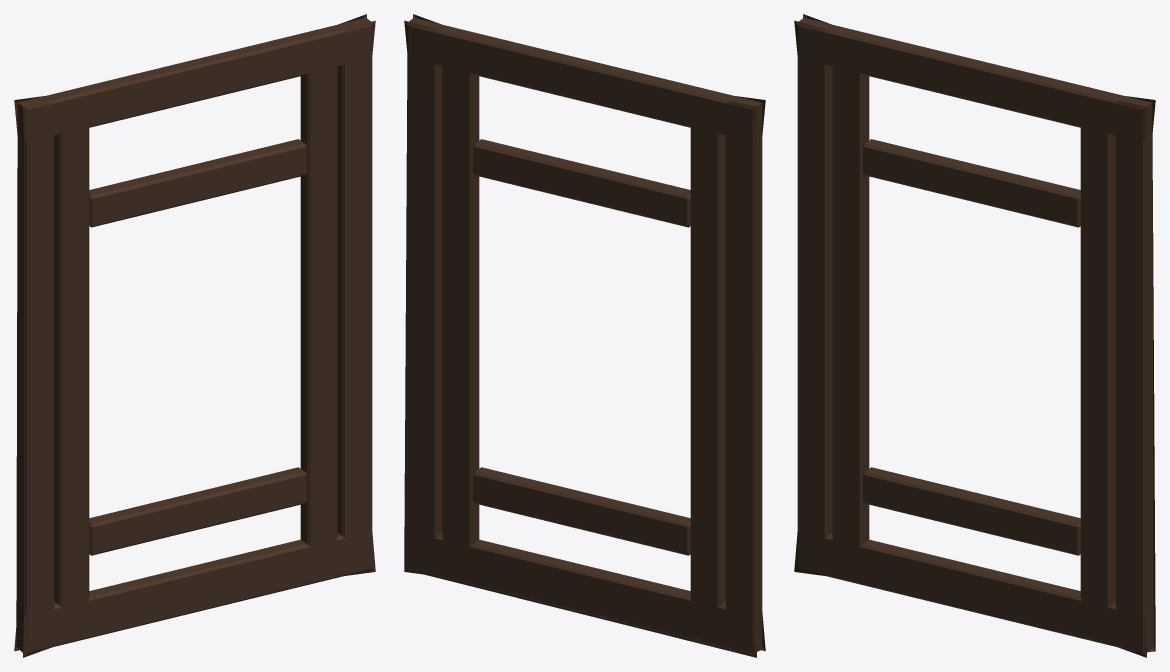
File: timber_shop_w8.fbx
3 renders of one model, left to right at view 1: azimuth 30°, elevation 25°; view 2: azimuth 150°, elevation 25°; view 3: azimuth 330°, elevation 25°, orthographic.
Parts seen in each view (by area): view 1: timber_shop_w8; view 2: timber_shop_w8; view 3: timber_shop_w8.
Part boxes in pixels (x1,y1,x2,y2): timber_shop_w8: (14,14,375,657); timber_shop_w8: (404,14,765,657); timber_shop_w8: (794,14,1155,657).
Size of the model in its own units: 810 by 1210 by 35.
